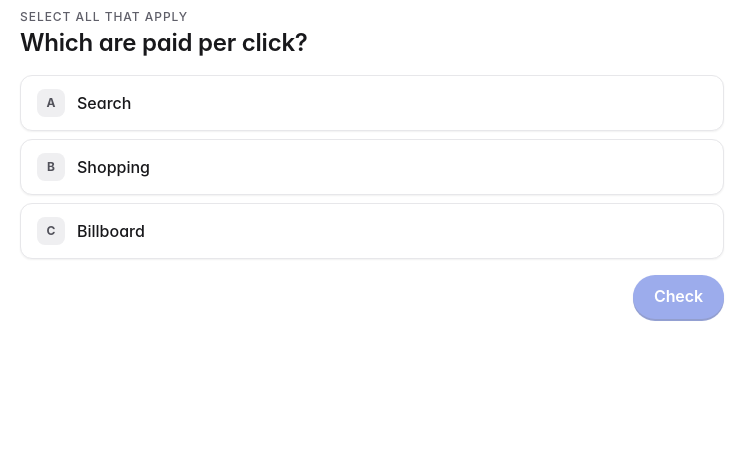
Test case: scoring.revealAnswers › never: shows what was wrong, not what was right
Click the checkbox labelled "A Search". click: (104, 103)
box: [20,75,724,131]
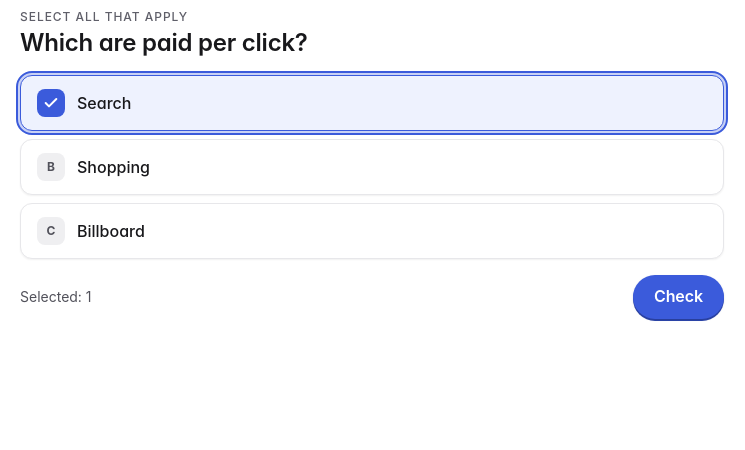
Click the checkbox labelled "C Billboard". click: (111, 231)
box: [20,203,724,259]
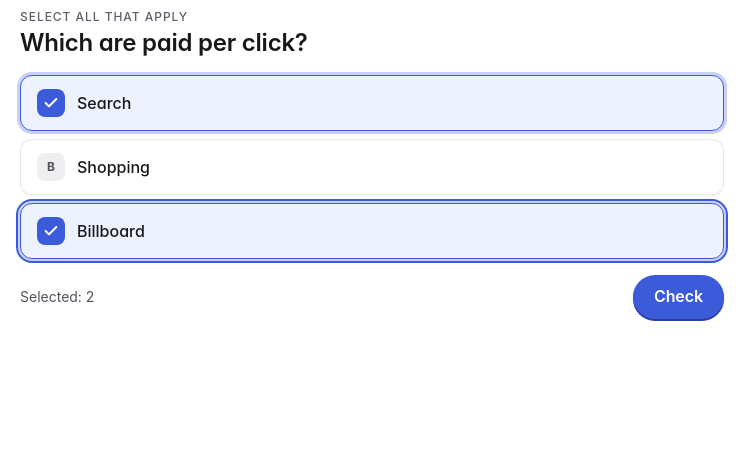
Click the button "Check". click: (678, 297)
box: [633,275,724,319]
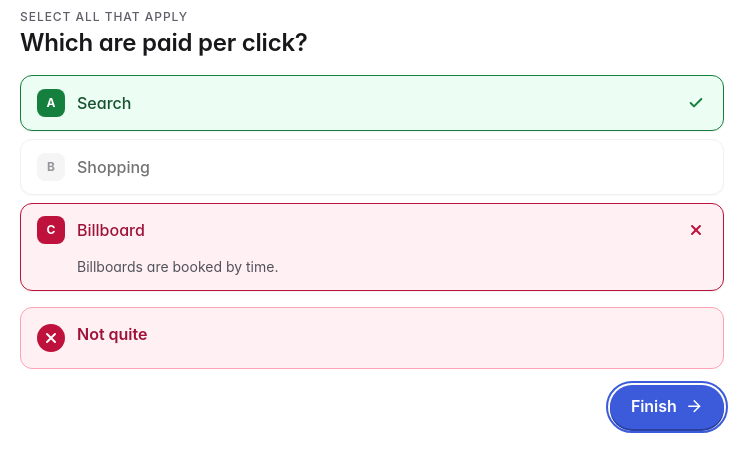
Result: the text "Billboards are booked by time." is shown at [77,258,278,275]
